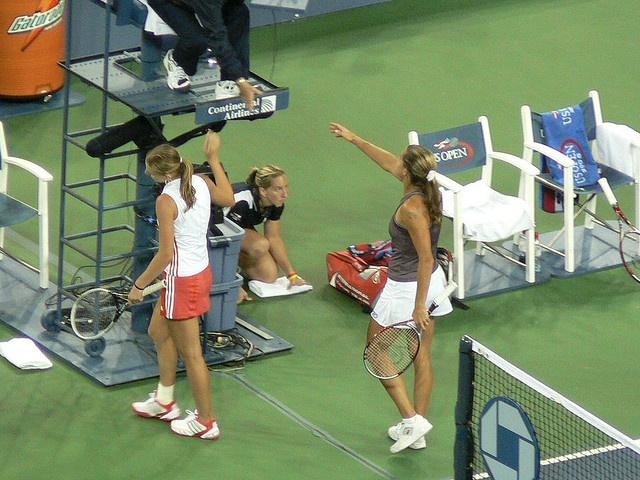Kursi: (407, 113, 540, 300), (514, 87, 639, 272)
